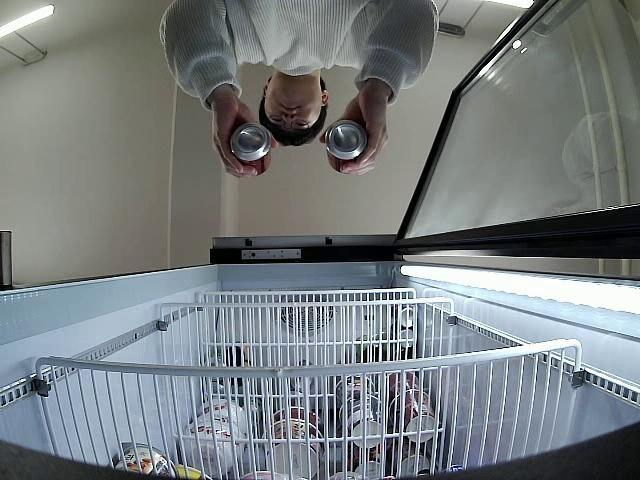11_cocaColaZero: (325, 118, 368, 172), (228, 125, 271, 174)
